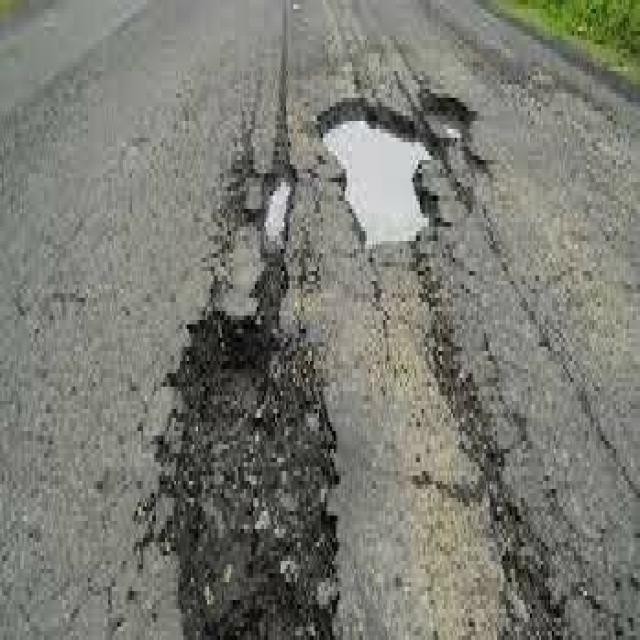Pothole: (101, 129, 359, 631), (303, 18, 486, 320)
